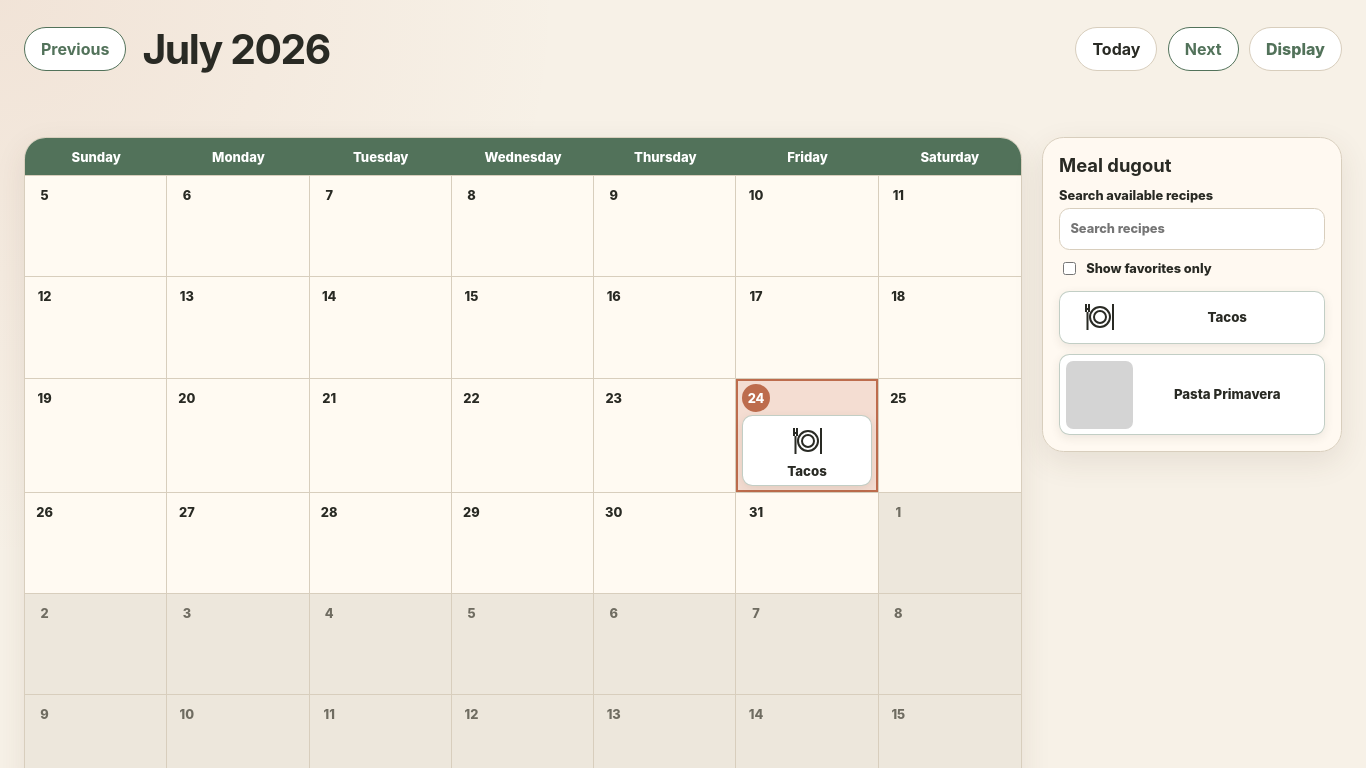
Test: MealPlannerPage › queries the exact Sunday-first range after next, previous, and today navigation
Step 1. Click the button with aria-label "Next month" → (1203, 49), box [1168, 27, 1239, 71]
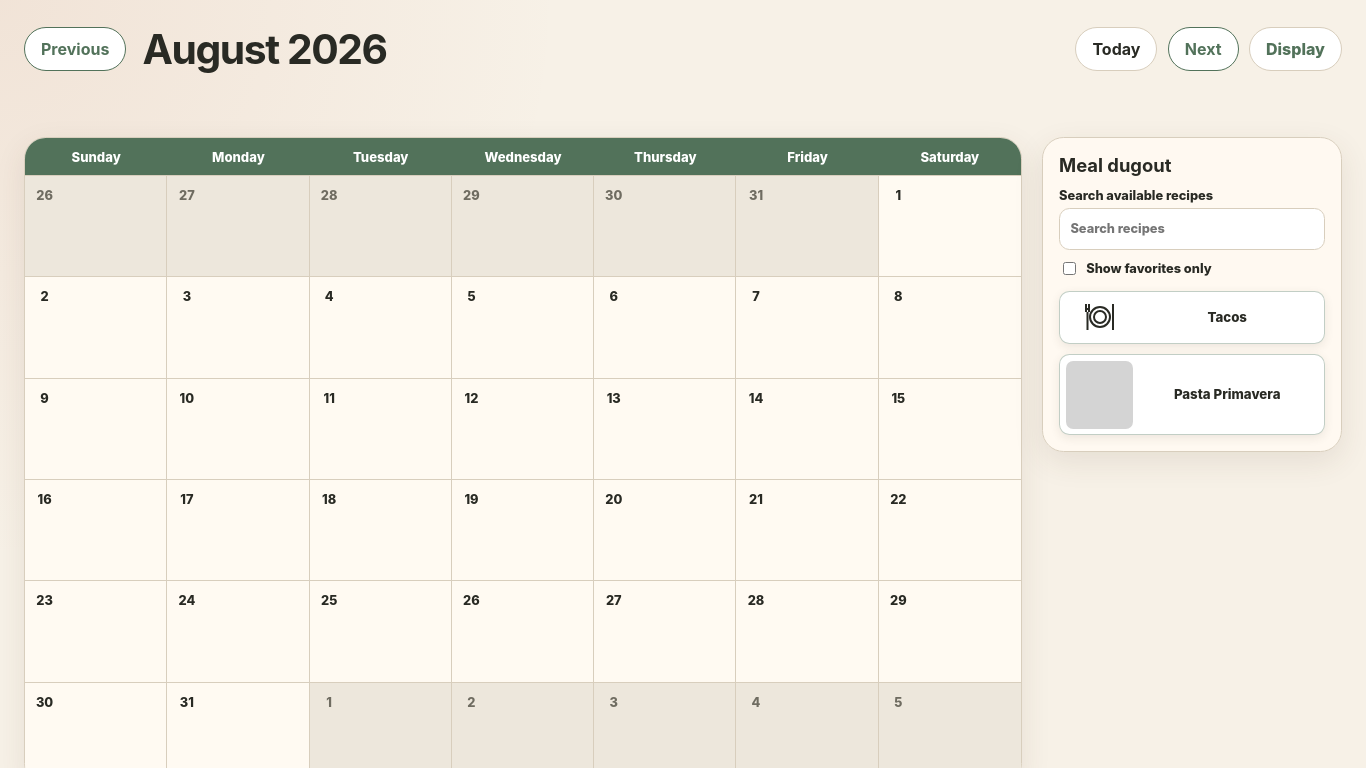
Now the heading "August 2026" is shown, box [142, 24, 387, 74]
Step 2. Click the button with aria-label "Previous month" → (75, 49), box [24, 27, 126, 71]
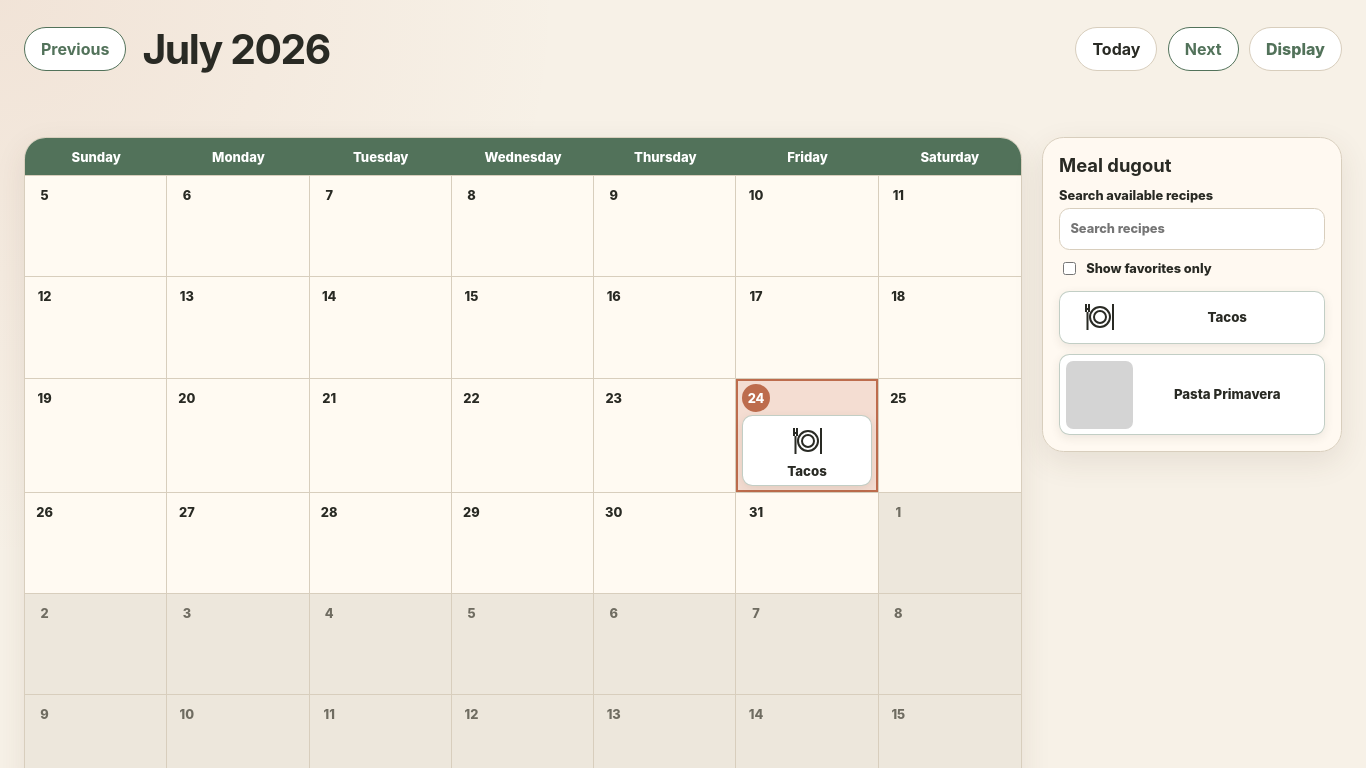
Now the heading "July 2026" is shown, box [142, 24, 330, 74]
Step 3. Click the button with aria-label "Previous month" → (75, 49), box [24, 27, 126, 71]
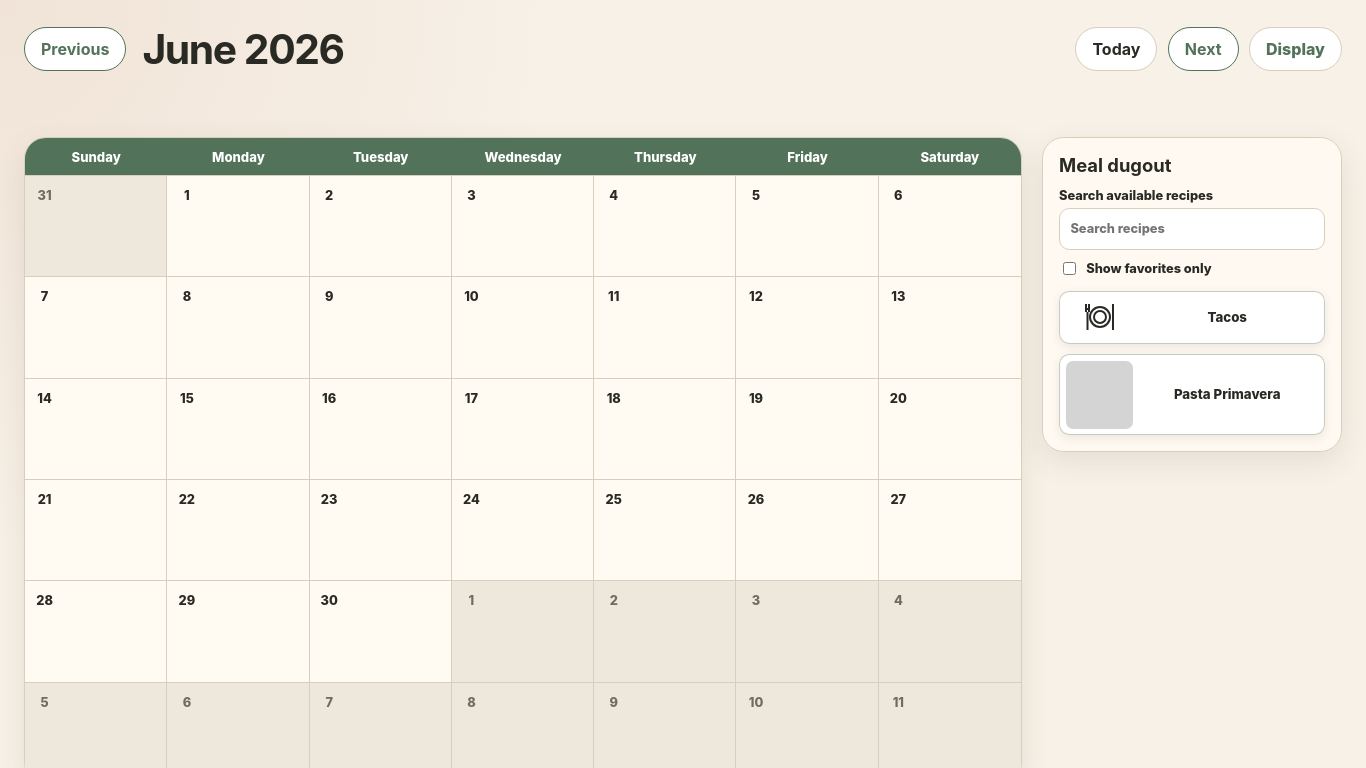
Now the heading "June 2026" is shown, box [142, 24, 344, 74]
Step 4. Click the button "Today" → (1116, 49), box [1075, 27, 1157, 71]
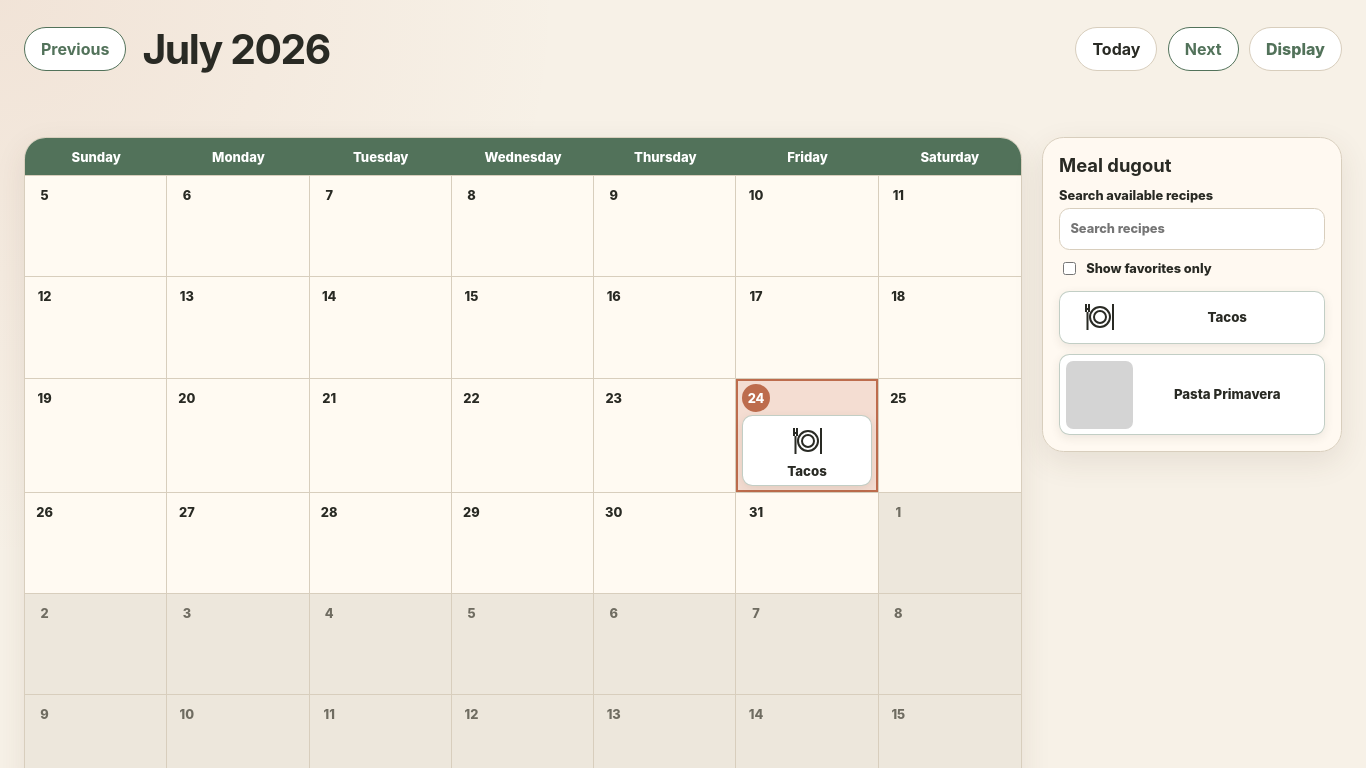
Now the heading "July 2026" is shown, box [142, 24, 330, 74]
